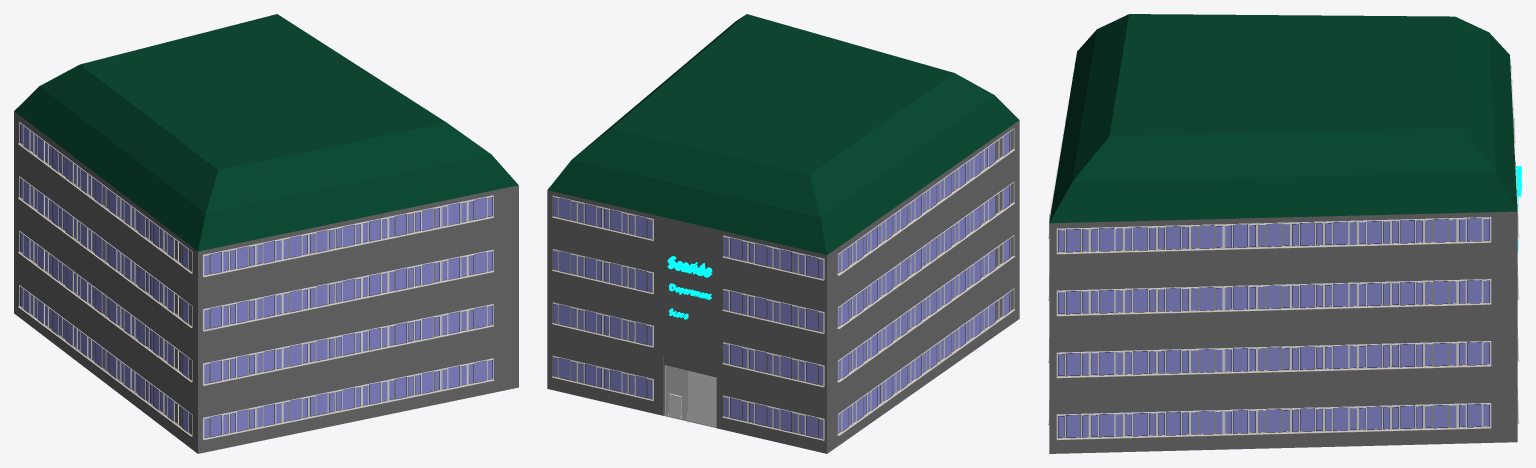
File: SeasideDepartmentStore.fbx
The picture shows the model from 3 angles, left to right: view 1: azimuth 30°, elevation 25°; view 2: azimuth 150°, elevation 25°; view 3: azimuth 270°, elevation 25°; orthographic projection. The views are drawn at different scales.
Parts seen in each view (by area): view 1: Vert.023, Window.003, Window.004; view 2: Vert.023, Window.004, Window.001, Window, CTRL_Hole.001, Door, Text; view 3: Vert.023, Window.002.
Part boxes in pixels (x1,y1,x2,y2): Vert.023: [14, 14, 518, 453]; Window.003: [202, 195, 494, 440]; Window.004: [18, 122, 192, 436]; Vert.023: [547, 14, 1019, 453]; Window.004: [836, 128, 1015, 435]; Window.001: [722, 235, 824, 440]; Window: [552, 195, 653, 400]; CTRL_Hole.001: [688, 370, 716, 426]; Door: [665, 365, 685, 419]; Text: [667, 256, 712, 277]; Vert.023: [1049, 14, 1517, 453]; Window.002: [1056, 217, 1491, 440].
Bounding box in the file's own units: 30.7 × 24.31 × 35.38.
